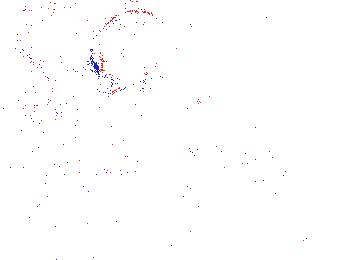moon jellyfish: (162, 7, 261, 105), (92, 8, 178, 87), (1, 48, 55, 115)
